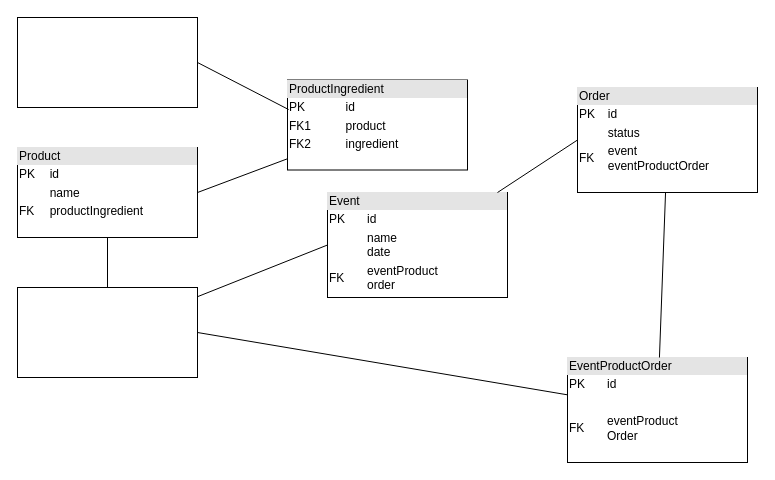
This 775x480 diagram has some shape labels left out. Here are the shapes that lost their labels. From the top down, the centre of each, then its label:
(x=107, y=62): Ingredient PK id name FK productIngredient
(x=107, y=332): EventProduct PK id price FK product event
